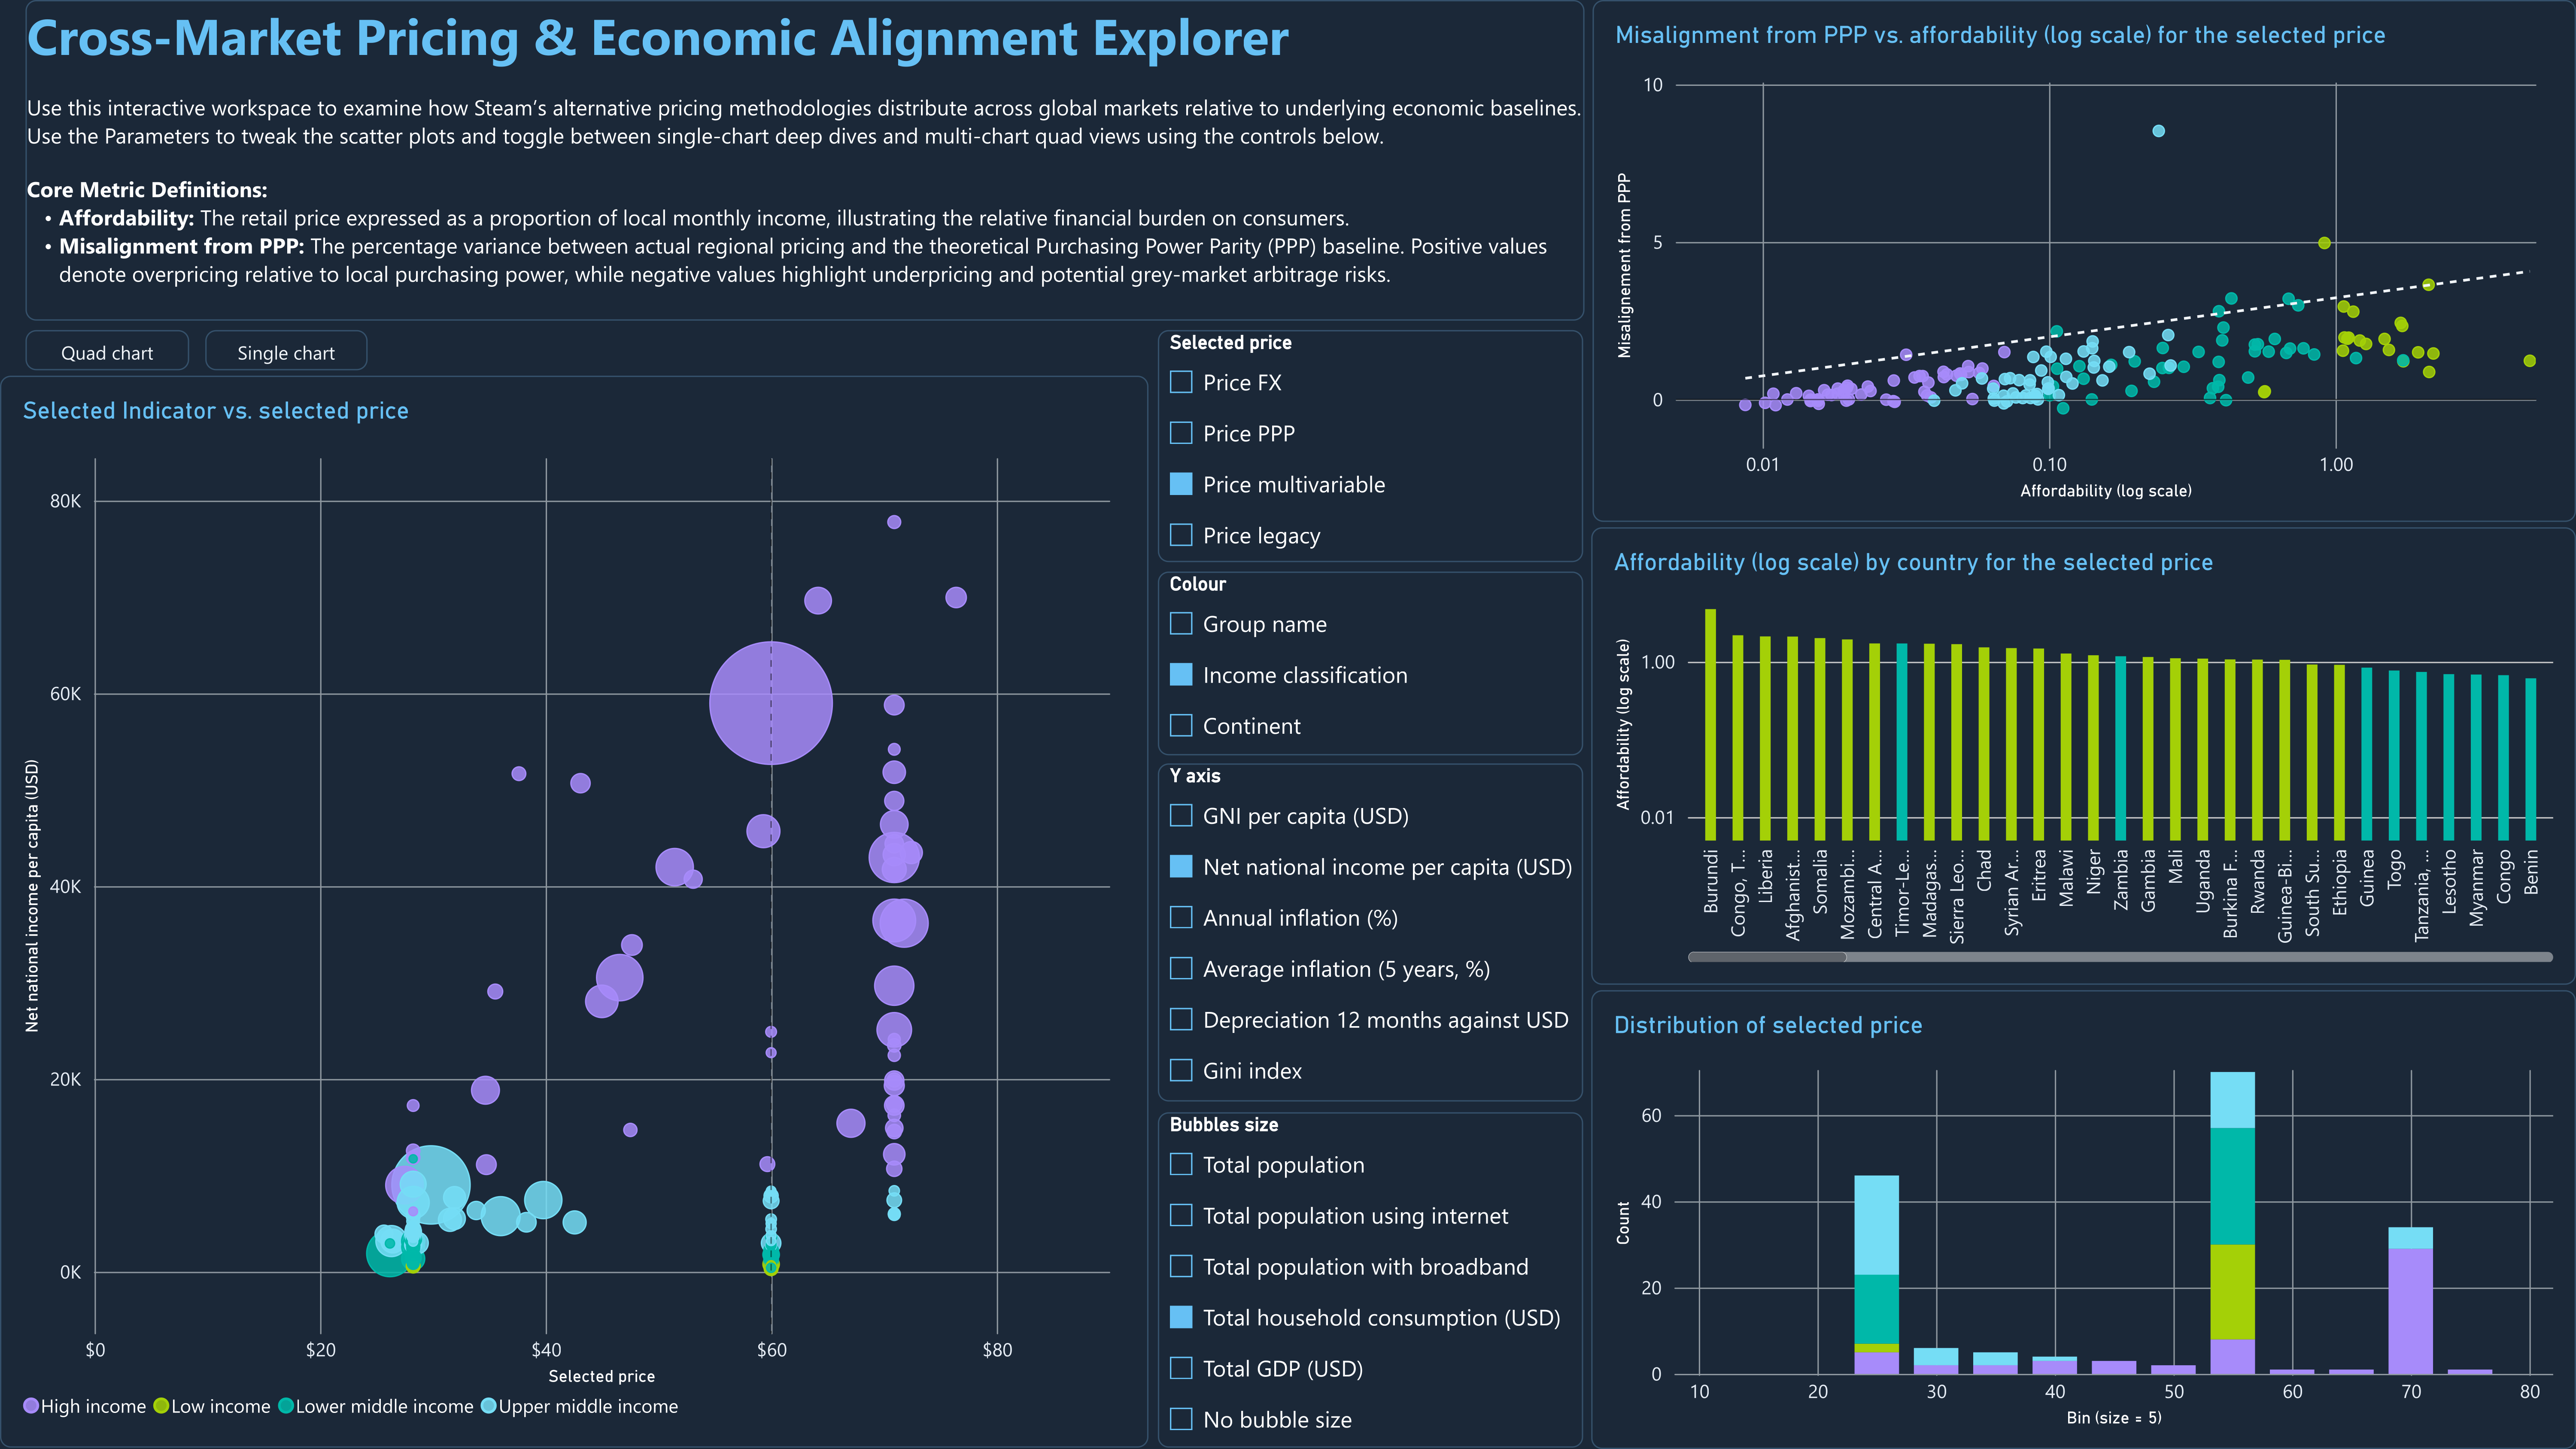

Layout of this report page (visuals, bound fields, positions):
{"tool":"powerbi","page":{"name":"Recommended prices","canvas":[1920,1080],"ordinal":1},"visuals":[{"type":"slicer","fields":{"Values":["Price Scatter Chart Parameter.Paramètre"]},"box":[862.9,569.3,317.1,252.1],"z":0},{"type":"scatterChart","title":"Selected indicator vs. multivariable price USD","fields":{"Series":["steam_regional_pricing_dataset.group_name"],"Size":["steam_regional_pricing_dataset.Total Population"],"X":["steam_regional_pricing_dataset.price_steam_multivariable_USD"],"Y":["steam_regional_pricing_dataset.WB_GNI_per_capita"]},"box":[0,680,427.1,400],"z":2000},{"type":"slicer","fields":{"Values":["Paramètre.Paramètre"]},"box":[862.9,425.7,317.1,137.1],"z":3000},{"type":"scatterChart","title":"Selected indicator vs. PPP price USD","fields":{"Series":["steam_regional_pricing_dataset.group_name"],"Size":["steam_regional_pricing_dataset.Total Population"],"X":["steam_regional_pricing_dataset.price_steam_PPP_USD"],"Y":["steam_regional_pricing_dataset.WB_GNI_per_capita"]},"box":[427.1,280,427.1,400],"z":4000},{"type":"scatterChart","title":"Selected indicator vs. FX price USD","fields":{"Series":["steam_regional_pricing_dataset.group_name"],"Size":["steam_regional_pricing_dataset.Total Population"],"X":["steam_regional_pricing_dataset.price_steam_FX_USD"],"Y":["steam_regional_pricing_dataset.WB_GNI_per_capita"]},"box":[0,280,427.1,400],"z":5000},{"type":"slicer","fields":{"Values":["Paramètre.Paramètre"]},"box":[862.9,245.7,317.1,173.6],"z":6000},{"type":"slicer","fields":{"Values":["Size Bubbles.Size Bubbles"]},"box":[862.9,828.6,317.1,250],"z":7000},{"type":"scatterChart","title":"Selected indicator vs. legacy Price USD","fields":{"Series":["steam_regional_pricing_dataset.group_name"],"Size":["steam_regional_pricing_dataset.Total Population"],"X":["steam_regional_pricing_dataset.price_steam_legacy_USD"],"Y":["steam_regional_pricing_dataset.WB_GNI_per_capita"]},"box":[427.1,680,427.1,400],"z":8000},{"type":"actionButton","box":[152.9,245.7,121.4,30],"z":9000},{"type":"actionButton","box":[18.6,245.7,122.9,30],"z":10000},{"type":"lineStackedColumnComboChart","title":"Distribution of selected price","fields":{"Category":["Histogram Bins.Value"],"Series":["steam_regional_pricing_dataset.group_name"],"Y":["steam_regional_pricing_dataset.Histogram Count"]},"box":[1185.7,737.9,734.3,342.1],"z":11000},{"type":"columnChart","title":"Affordability (log scale) by country for the selected price","fields":{"Category":["steam_regional_pricing_dataset.country_name"],"Series":["steam_regional_pricing_dataset.group_name"],"Y":["steam_regional_pricing_dataset.Selected Affordability"]},"box":[1185.7,392.9,734.3,341.4],"z":12000},{"type":"scatterChart","title":"Misalignment from PPP vs. affordability (log scale) for the selected price","fields":{"Category":["steam_regional_pricing_dataset.country_name"],"Series":["steam_regional_pricing_dataset.group_name"],"X":["steam_regional_pricing_dataset.Selected Affordability"],"Y":["steam_regional_pricing_dataset.Selected Misalignment"]},"box":[1187.1,0,732.9,388.6],"z":13000},{"type":"textbox","box":[18.6,0,1162.9,239.3],"z":16000}]}

Visuals, with their boxes in screenshot pixels (x1, y1, x2, y2), scaled from the page's 1920x1080 canvas onto the 2576x1449 screenshot:
slicer - Price Scatter Chart Parameter.Paramètre: l=1158, t=764, r=1583, b=1102
"Selected indicator vs. multivariable price USD" scatterChart: l=0, t=912, r=573, b=1449
slicer - Paramètre.Paramètre: l=1158, t=571, r=1583, b=755
"Selected indicator vs. PPP price USD" scatterChart: l=573, t=376, r=1146, b=912
"Selected indicator vs. FX price USD" scatterChart: l=0, t=376, r=573, b=912
slicer - Paramètre.Paramètre: l=1158, t=330, r=1583, b=562
slicer - Size Bubbles.Size Bubbles: l=1158, t=1112, r=1583, b=1447
"Selected indicator vs. legacy Price USD" scatterChart: l=573, t=912, r=1146, b=1449
actionButton: l=205, t=330, r=368, b=370
actionButton: l=25, t=330, r=190, b=370
"Distribution of selected price" lineStackedColumnComboChart: l=1591, t=990, r=2576, b=1449
"Affordability (log scale) by country for the selected price" columnChart: l=1591, t=527, r=2576, b=985
"Misalignment from PPP vs. affordability (log scale) for the selected price" scatterChart: l=1593, t=0, r=2576, b=521
textbox: l=25, t=0, r=1585, b=321
